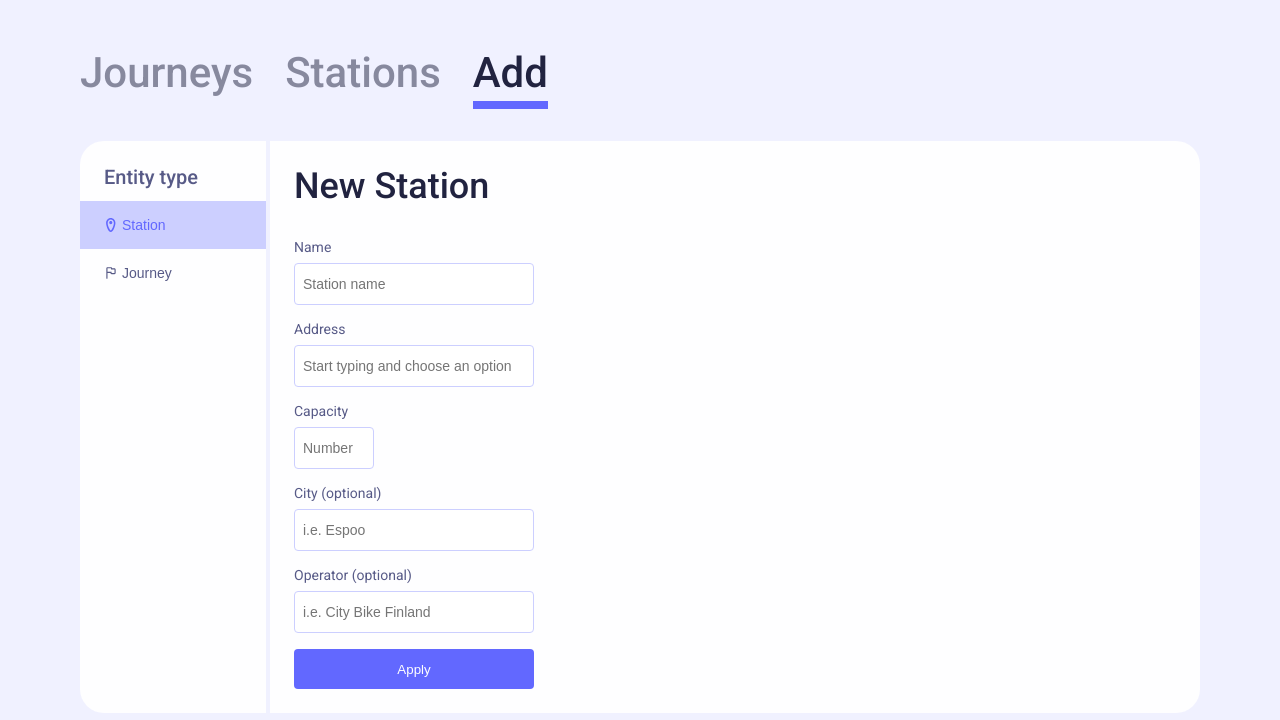
Test: Entity Switch › changes entities
Expected: the element with test id "add-station-form" is shown, [294, 165, 534, 689]
What coordinates should you click on to do the following:
click the button with test id "option-add-journey"
I would click on:
 (173, 273)
Its box is [80, 249, 266, 297].
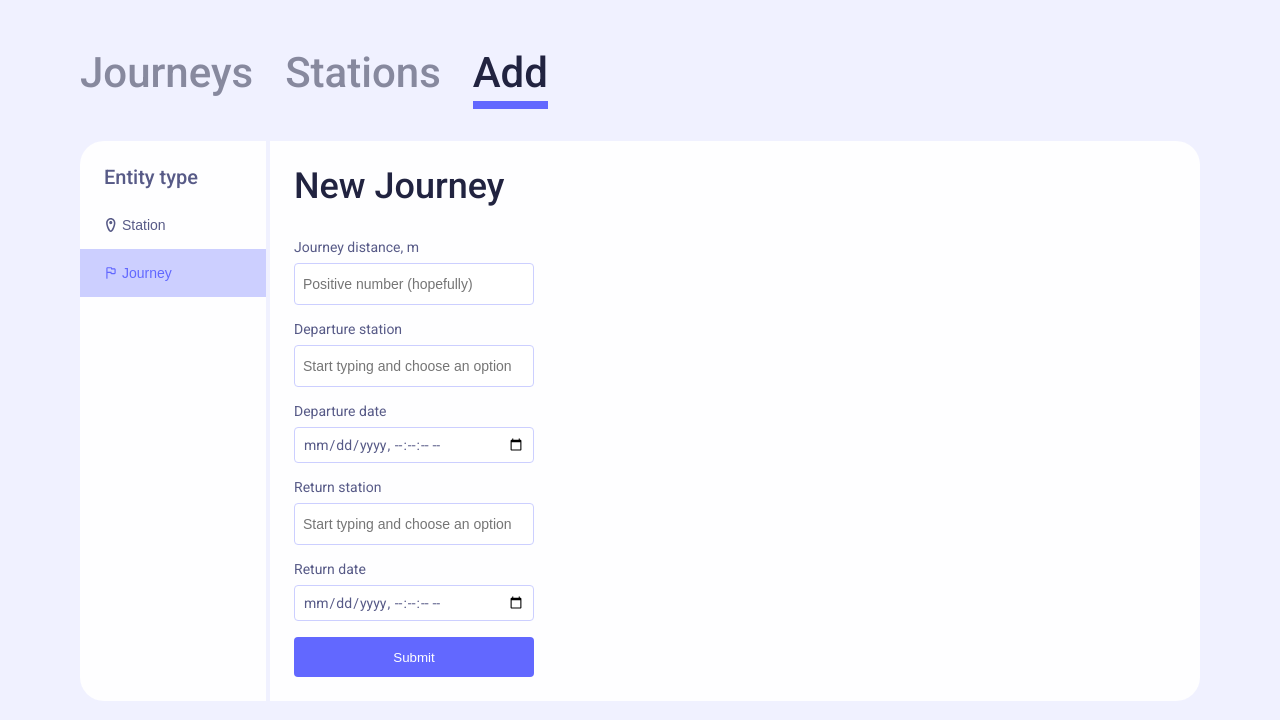
Result: the element with test id "add-station-form" is gone
Result: the element with test id "add-journey-form" is shown at [294, 165, 534, 677]
What coordinates should you click on to do the following:
click the button with test id "option-add-station"
I would click on:
 (173, 225)
Its box is [80, 201, 266, 249].
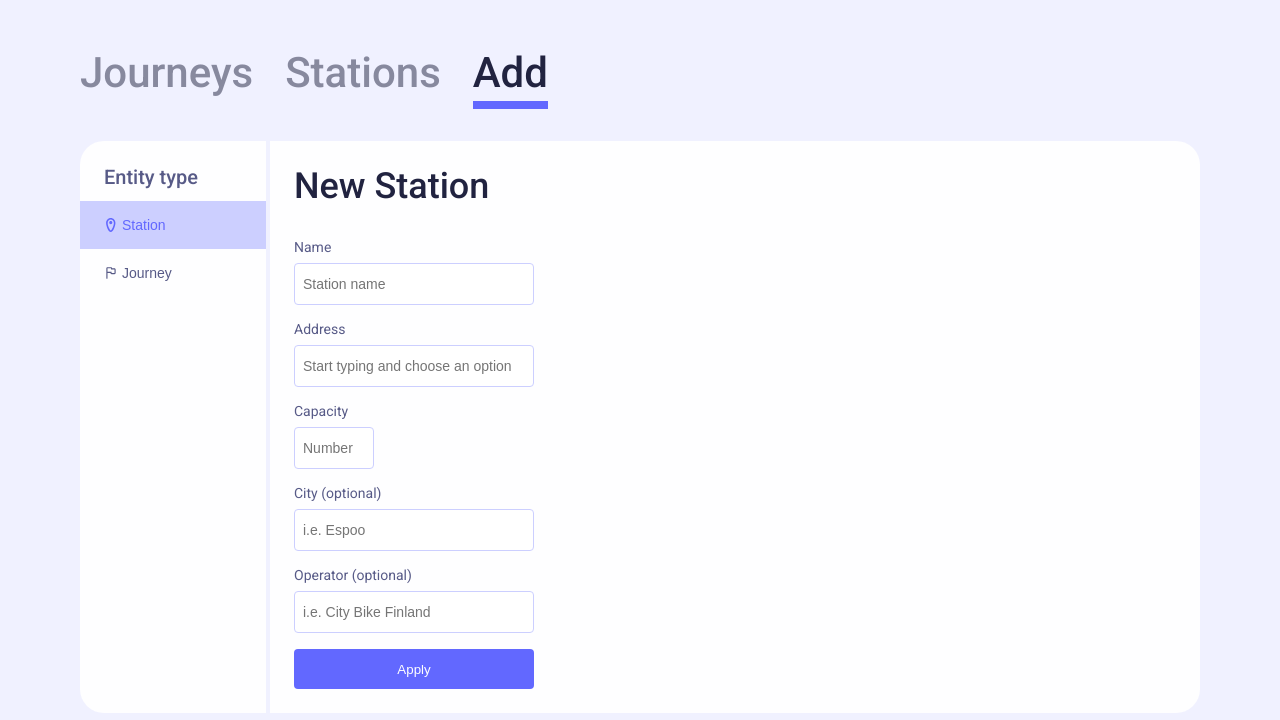
Result: the element with test id "add-journey-form" is gone
Result: the element with test id "add-station-form" is shown at [294, 165, 534, 689]
